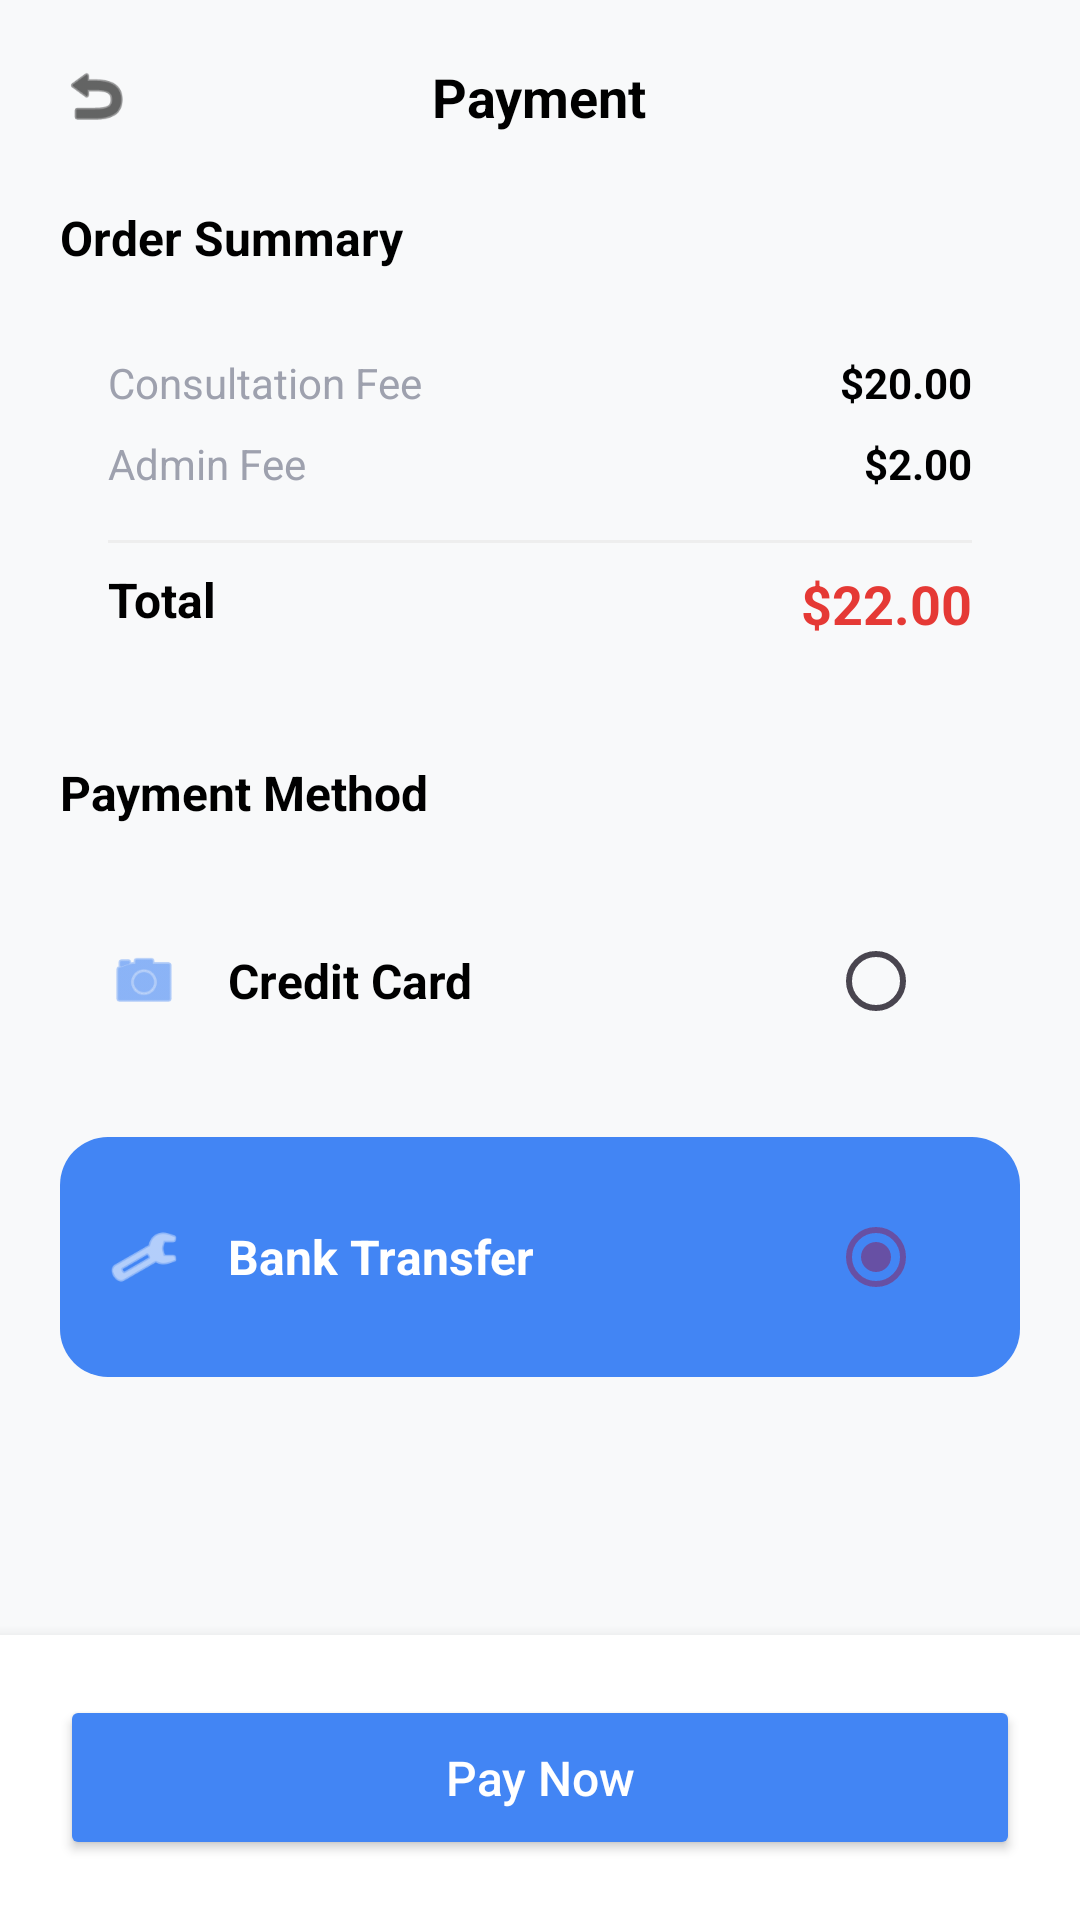

Named icons in this screenshot (1080 × 1920) and their centers, (x=x, y=y):
camera: (x=144, y=980)
manage: (x=144, y=1257)
revert: (x=97, y=96)
